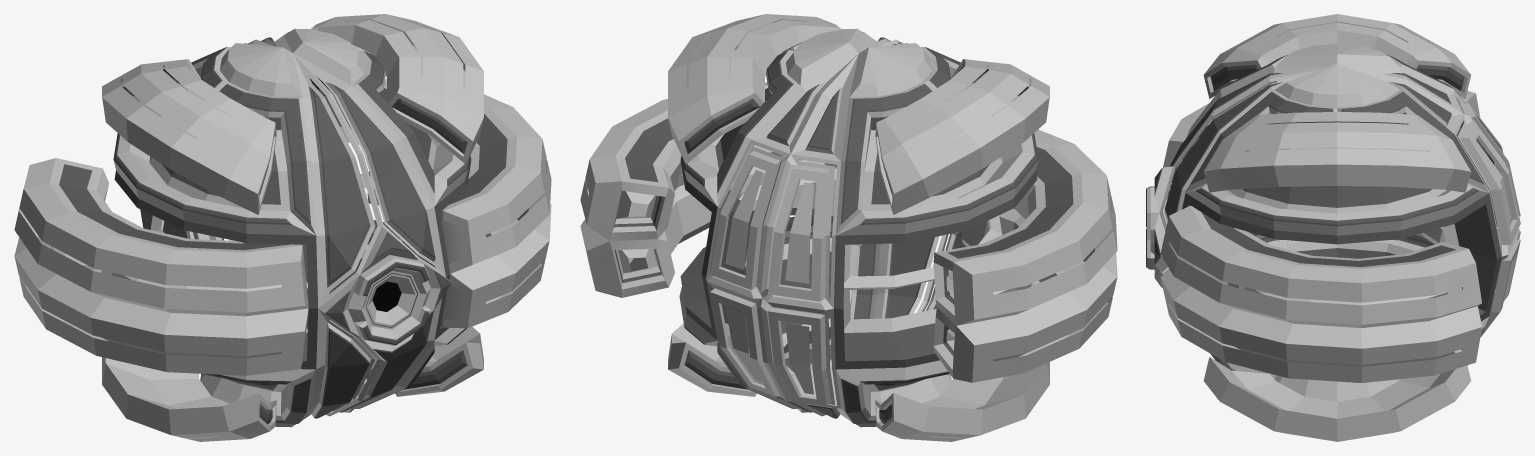
File: SpyDrone_A.dae
3 views of the same model, side by side, from view 1: azimuth 30°, elevation 25°; view 2: azimuth 150°, elevation 25°; view 3: azimuth 270°, elevation 25° (orthographic). The views are drawn at different scales.
Visible parts, largest first — view 1: SpyDrone_A; view 2: SpyDrone_A; view 3: SpyDrone_A.
Part boxes in pixels (bbox=[...]): SpyDrone_A: bbox=[14, 14, 551, 441]; SpyDrone_A: bbox=[580, 14, 1117, 441]; SpyDrone_A: bbox=[1146, 14, 1520, 441].
Size of the model in its own units: 10.32 by 7.51 by 7.47.
